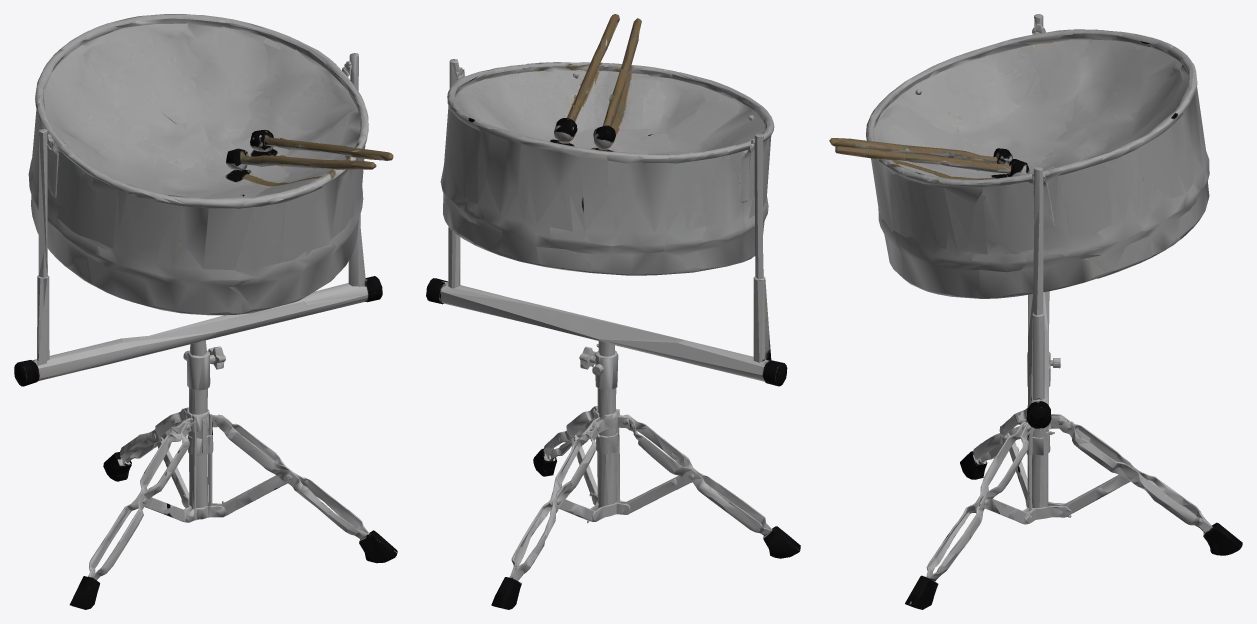
File: PAN_FALDA_30_NOTAS_10-optimized.glb
3 views of the same model, side by side, from view 1: azimuth 30°, elevation 25°; view 2: azimuth 150°, elevation 25°; view 3: azimuth 270°, elevation 25° (orthographic). The views are drawn at different scales.
Parts seen in each view (by area): view 1: output_unwrapped; view 2: output_unwrapped; view 3: output_unwrapped.
Part boxes in pixels (x1,y1,x2,y2): output_unwrapped: (14,14,397,609); output_unwrapped: (426,14,800,609); output_unwrapped: (829,14,1242,609).
Size of the model in its own units: 1.52 by 1.9 by 1.51.
1 material, 1 textured.
